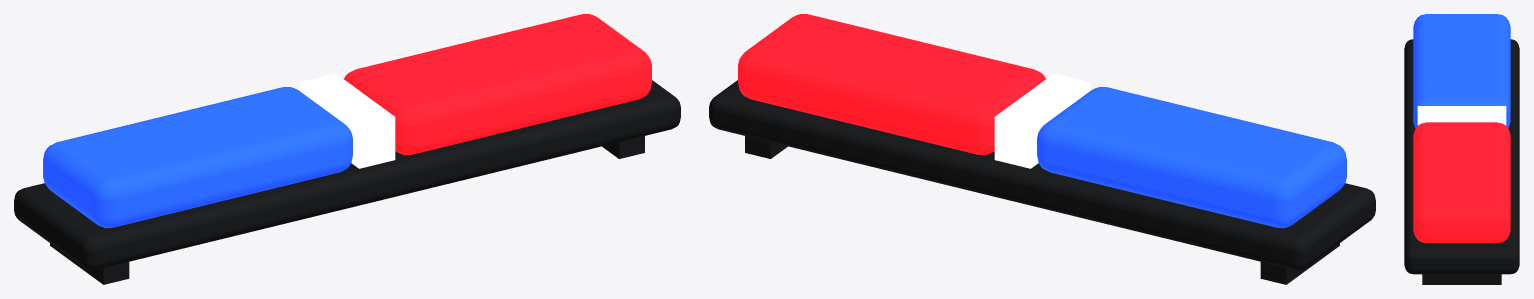
The model's file is hhpd-lightbar.glb.
3 views of the same model, side by side, from view 1: azimuth 30°, elevation 25°; view 2: azimuth 150°, elevation 25°; view 3: azimuth 270°, elevation 25° (orthographic). The views are drawn at different scales.
Visible parts, largest first — view 1: lightbar base, lightbar blue, lightbar red, lightbar white; view 2: lightbar base, lightbar blue, lightbar red, lightbar white; view 3: lightbar red, lightbar blue, lightbar base, lightbar white.
Boxes of the visible parts, bbox=[...] form: lightbar base: bbox=[14, 80, 680, 284]; lightbar blue: bbox=[43, 87, 352, 228]; lightbar red: bbox=[344, 14, 651, 155]; lightbar white: bbox=[299, 73, 395, 168]; lightbar base: bbox=[709, 80, 1375, 284]; lightbar blue: bbox=[1037, 87, 1346, 228]; lightbar red: bbox=[738, 14, 1045, 155]; lightbar white: bbox=[994, 73, 1090, 168]; lightbar red: bbox=[1413, 122, 1510, 242]; lightbar blue: bbox=[1413, 14, 1510, 128]; lightbar base: bbox=[1404, 39, 1519, 284]; lightbar white: bbox=[1417, 106, 1506, 125].
Size of the model in its own units: 1.16 by 0.19 by 0.26.
